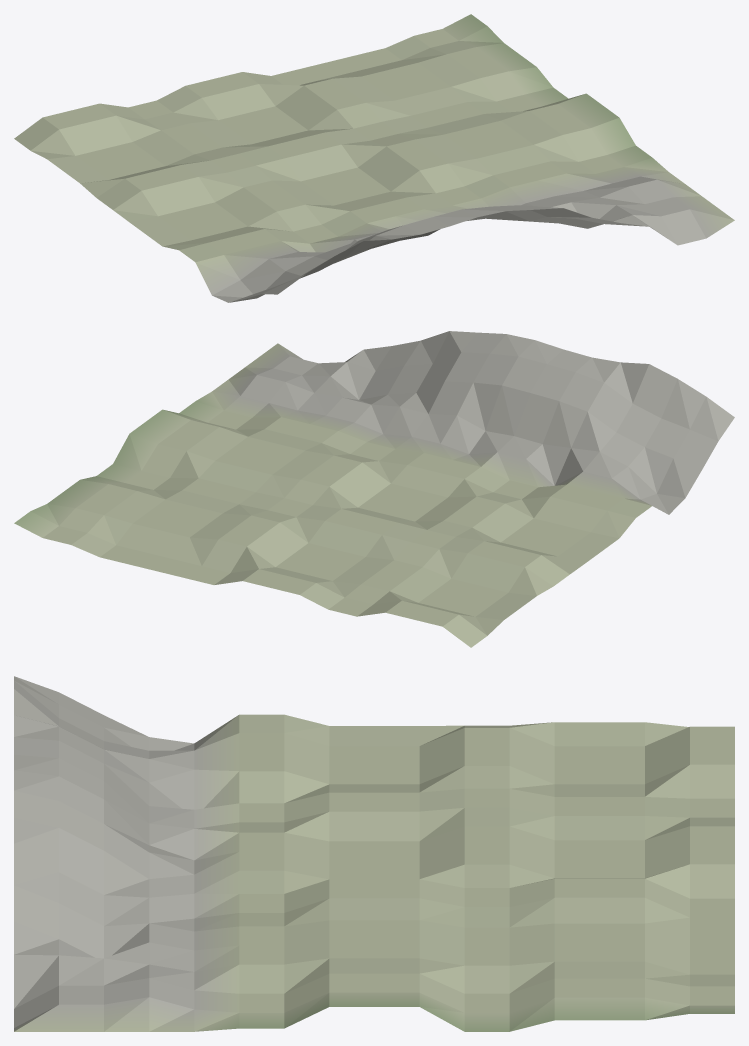
3 views of the same model, one above another, from view 1: azimuth 30°, elevation 25°; view 2: azimuth 150°, elevation 25°; view 3: azimuth 270°, elevation 25° (orthographic). The views are drawn at different scales.
Size of the model in its own units: 32 by 5.47 by 32.
